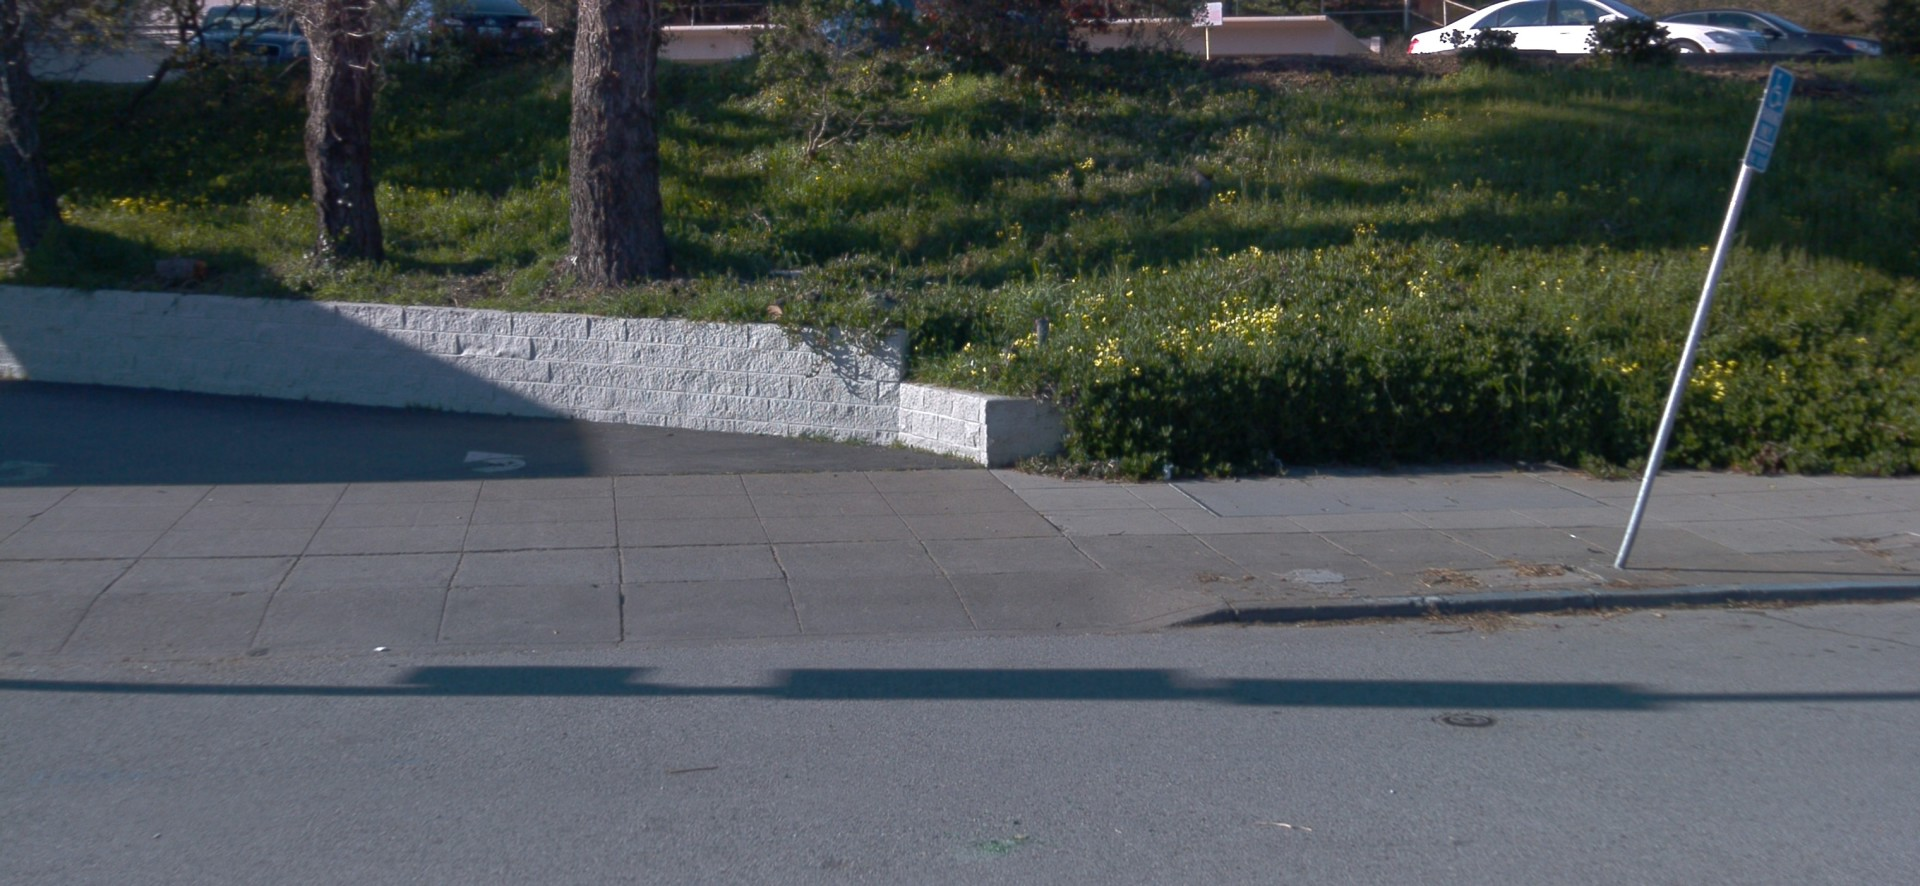TYPE_VEHICLE: (1405, 0, 1771, 56), (799, 0, 1069, 64), (1650, 8, 1885, 59), (384, 0, 549, 69), (185, 3, 309, 74), (730, 54, 761, 63)
